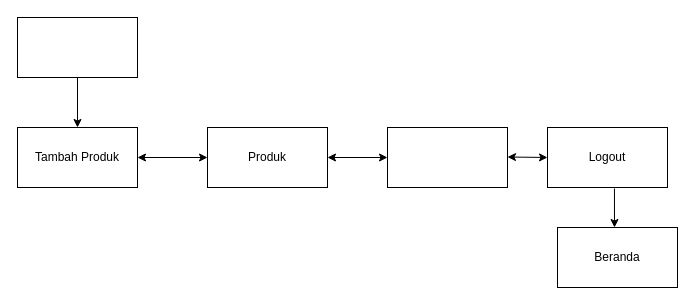
The diagram is 695 pixels wide and 305 high, and some of its shapes have lost their labels. Here are the shapes that lost their labels. From the top down, the centre of each, then its label:
point 77,47: Login
point 447,157: Orderan
